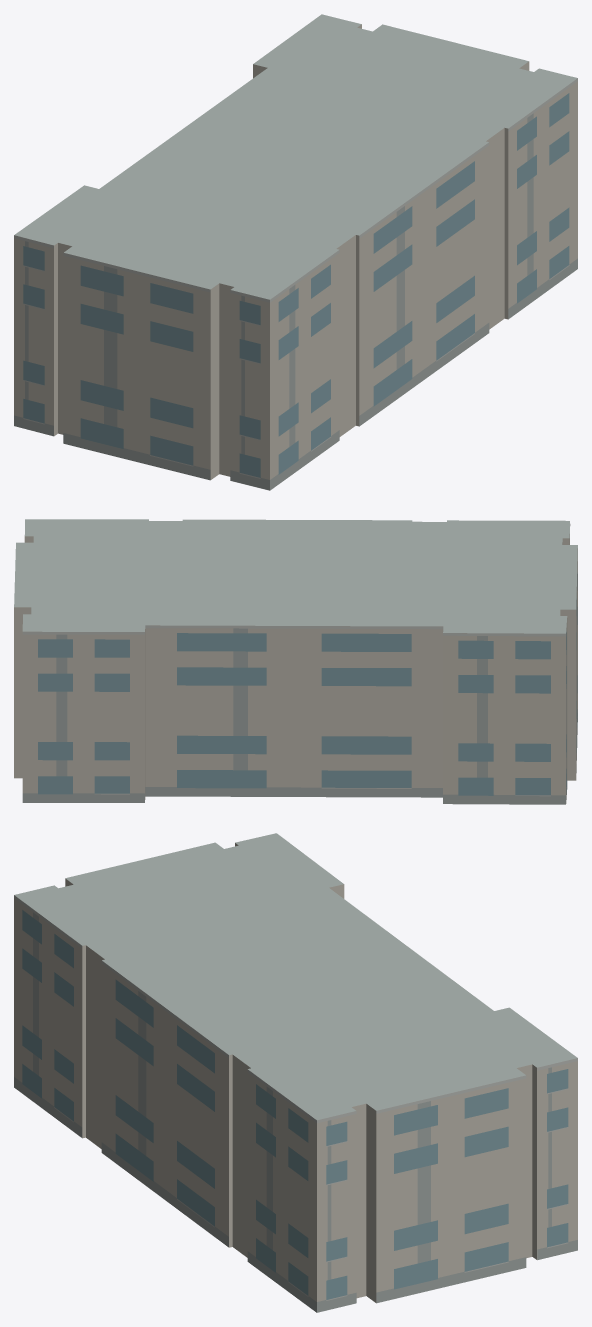
Rendered from survey-upis-32721934.glb.
The picture shows the model from 3 angles, top to bottom: view 1: azimuth 30°, elevation 25°; view 2: azimuth 150°, elevation 25°; view 3: azimuth 270°, elevation 25°; orthographic projection. The views are drawn at different scales.
Parts seen in each view (by area): view 1: survey-upis-32721934.tmp; view 2: survey-upis-32721934.tmp; view 3: survey-upis-32721934.tmp.
Part boxes in pixels (x1,y1,x2,y2): survey-upis-32721934.tmp: (14, 14, 577, 490); survey-upis-32721934.tmp: (14, 519, 577, 804); survey-upis-32721934.tmp: (14, 833, 577, 1312).
Bounding box in the file's own units: 48.82 × 15.25 × 40.5.
